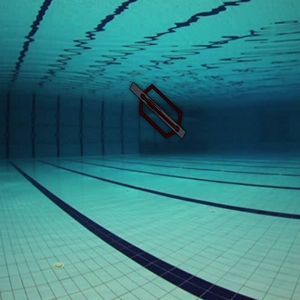submarine: (118, 74, 203, 144)
